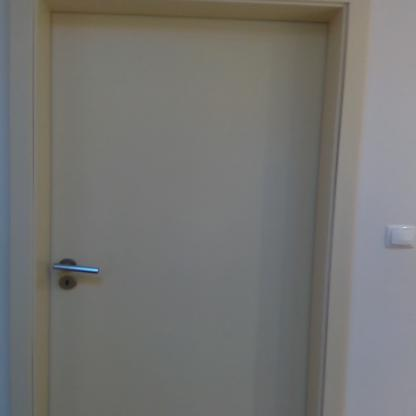door: (48, 10, 318, 416)
lever: (52, 259, 104, 276)
